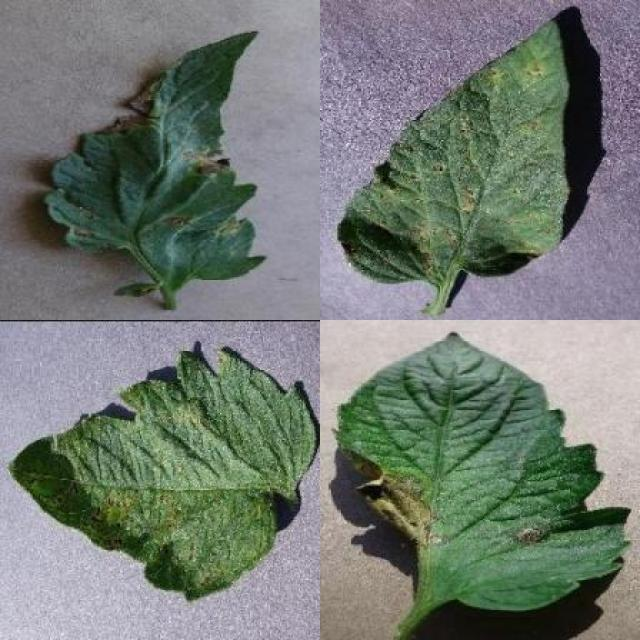Early Blight: (36, 28, 270, 282)
Late Blight: (334, 329, 630, 614)
Septoria: (7, 349, 320, 604), (334, 22, 572, 287)
